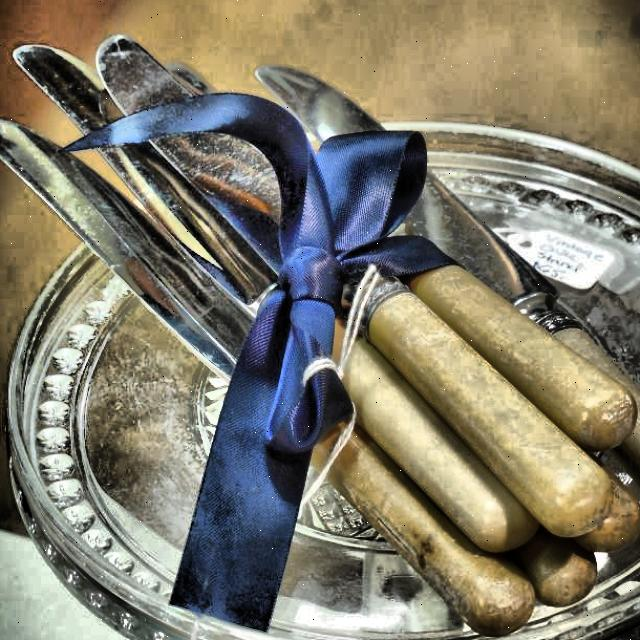knife: (0, 107, 526, 627), (13, 41, 538, 552), (92, 28, 612, 536), (258, 65, 640, 471)
